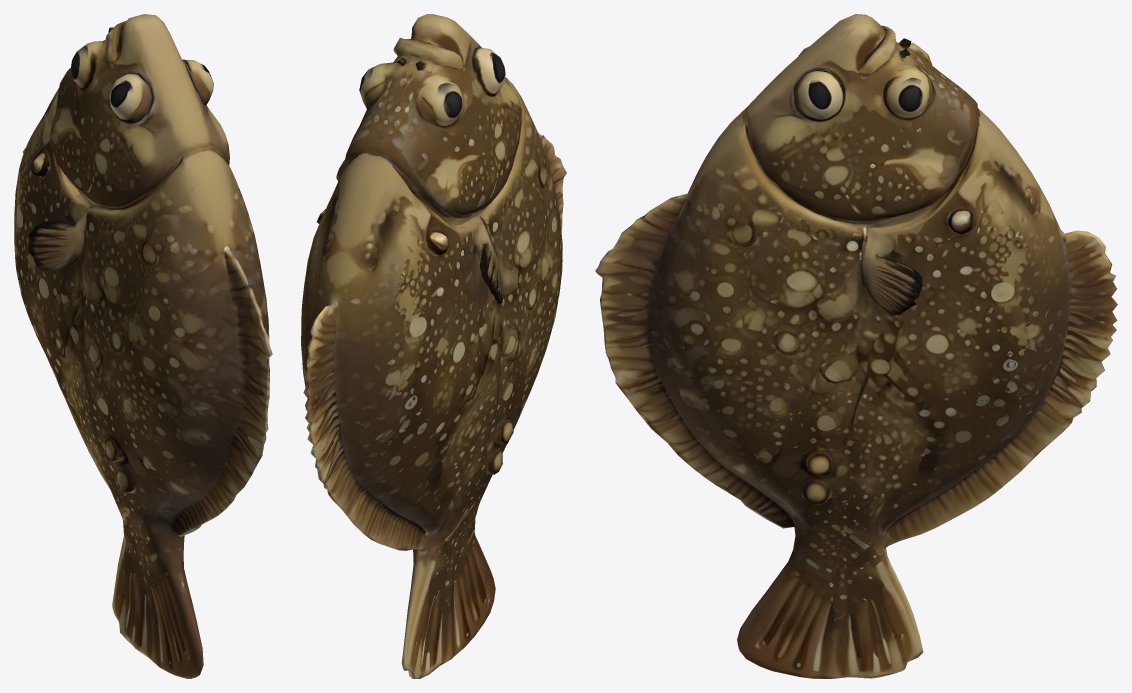
File: flounder.glb
The picture shows the model from 3 angles, left to right: view 1: azimuth 30°, elevation 25°; view 2: azimuth 150°, elevation 25°; view 3: azimuth 270°, elevation 25°; orthographic projection. The views are drawn at different scales.
Parts seen in each view (by area): view 1: tripo_node_bb67a1d2-881f-4c5b-b2a6-375d3477de63; view 2: tripo_node_bb67a1d2-881f-4c5b-b2a6-375d3477de63; view 3: tripo_node_bb67a1d2-881f-4c5b-b2a6-375d3477de63.
Part boxes in pixels (<box>): tripo_node_bb67a1d2-881f-4c5b-b2a6-375d3477de63: <box>14,14,272,678</box>; tripo_node_bb67a1d2-881f-4c5b-b2a6-375d3477de63: <box>301,14,566,678</box>; tripo_node_bb67a1d2-881f-4c5b-b2a6-375d3477de63: <box>595,14,1117,678</box>.
Bounding box in the file's own units: 0.2892 × 1 × 0.7172.
1 material, 1 textured.
